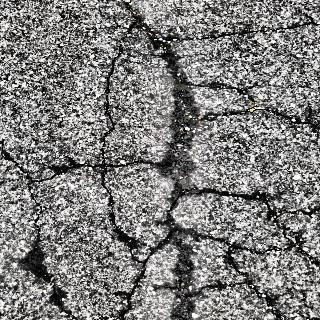alligator-crack: (17, 5, 314, 317)
